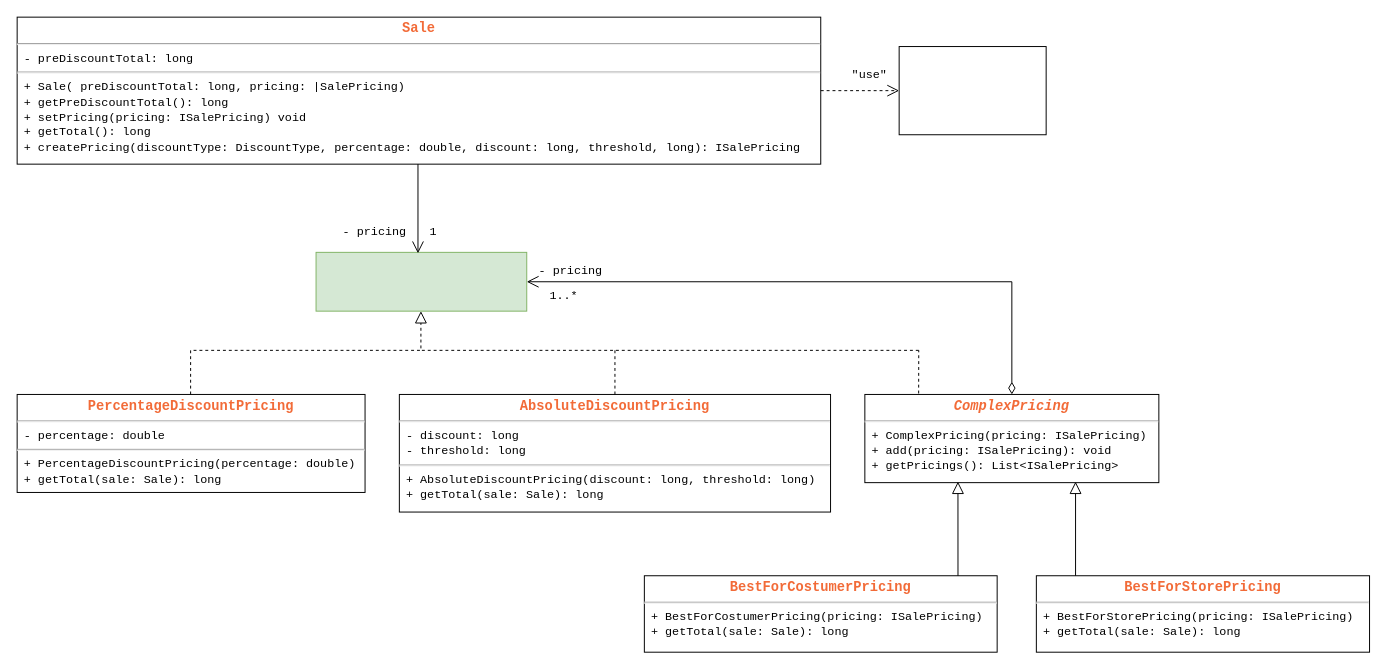
Some shapes in this 1387 by 669 pixel diagram are drawn without their labels. Each missing label, with the centre of its shape:
"<enumeration> DiscountType PERCENTAGEDISCOUNT ABSOLUTEDISCOUNT" goes at pixel 972 90.
"ISalePricing + getTotal(sale: Sale): long" goes at pixel 421 281.
